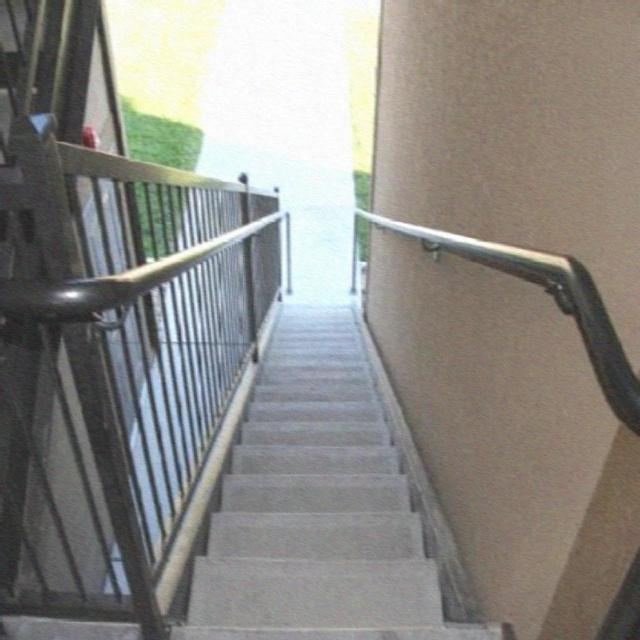stair: (147, 132, 522, 640)
